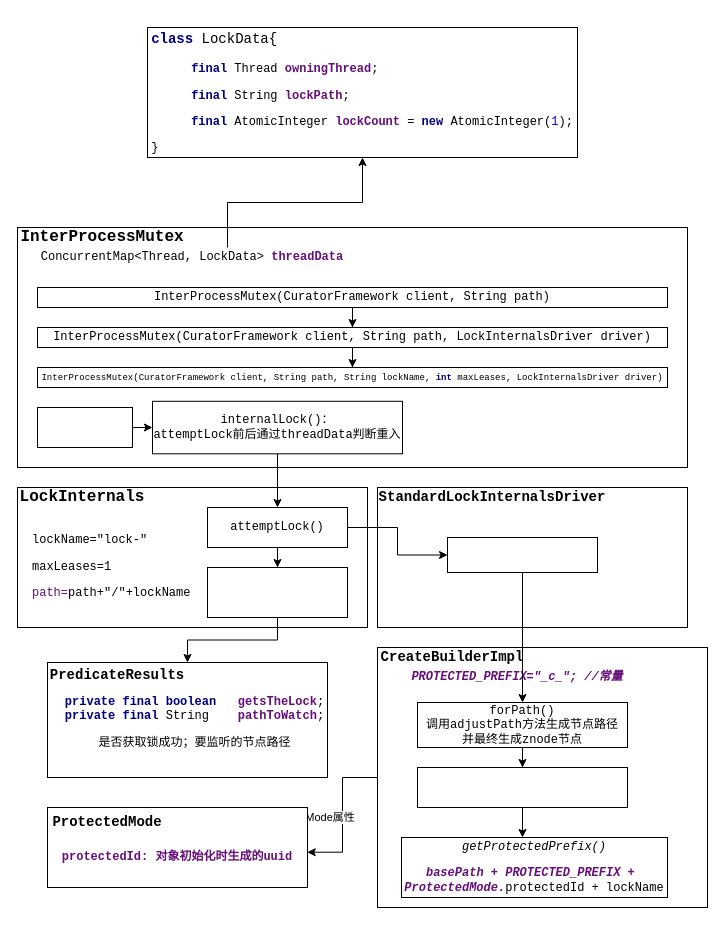
Image size: 725x925. Some labels were removed from this diagram. Each missing label, with the centre of its shape:
"acquire()" belongs at point 84,427.
"adjustPath()" belongs at point 522,787.
"createsTheLock() 创建临时序列化节点" belongs at point 522,554.
"internalLockLoop() 判断自己是否有锁" belongs at point 277,592.
